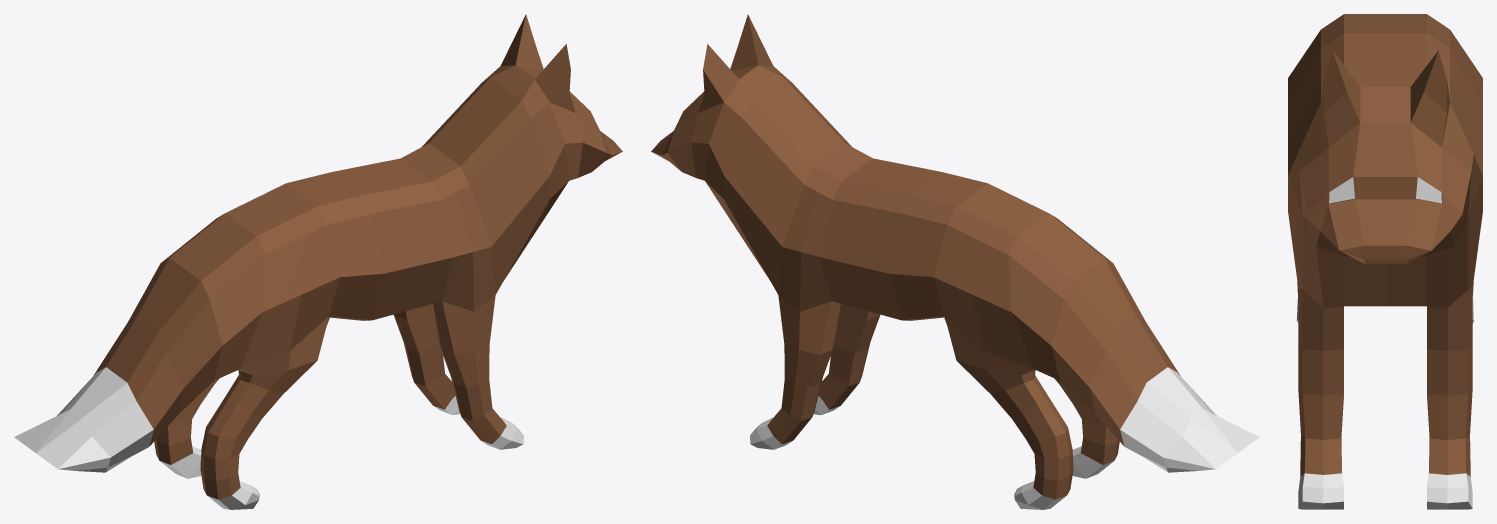
Rendered from fox.glb.
The picture shows the model from 3 angles, left to right: view 1: azimuth 30°, elevation 25°; view 2: azimuth 150°, elevation 25°; view 3: azimuth 270°, elevation 25°; orthographic projection. The views are drawn at different scales.
Visible parts, largest first — view 1: Cube.001; view 2: Cube.001; view 3: Cube.001.
Boxes of the visible parts, x1=… form: Cube.001: x1=14, y1=14, x2=622, y2=509; Cube.001: x1=651, y1=14, x2=1259, y2=509; Cube.001: x1=1288, y1=14, x2=1482, y2=509.
Size of the model in its own units: 0.7419 by 0.4739 by 0.1676.
